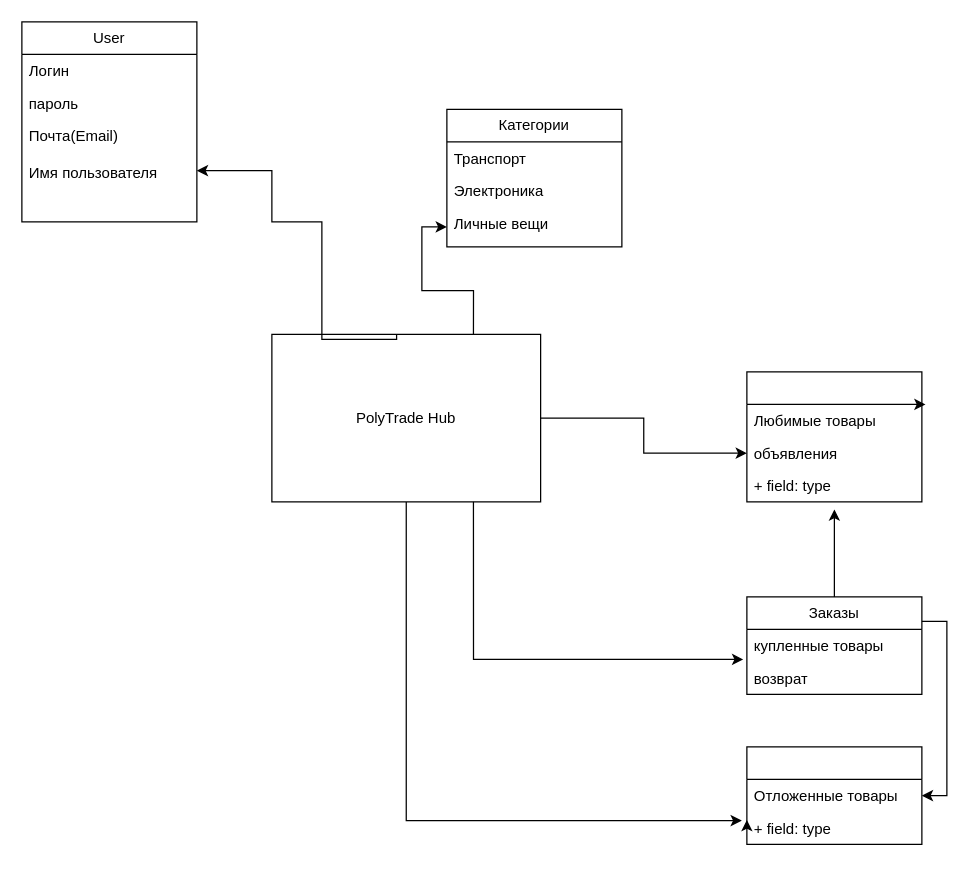
This 979x870 diagram has some shape labels left out. Each missing label, with the box of its shape:
Избранное: (746, 371, 922, 502)
Корзина: (746, 746, 922, 844)
